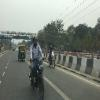motorcycles: (29, 54, 46, 99), (47, 48, 56, 69)
